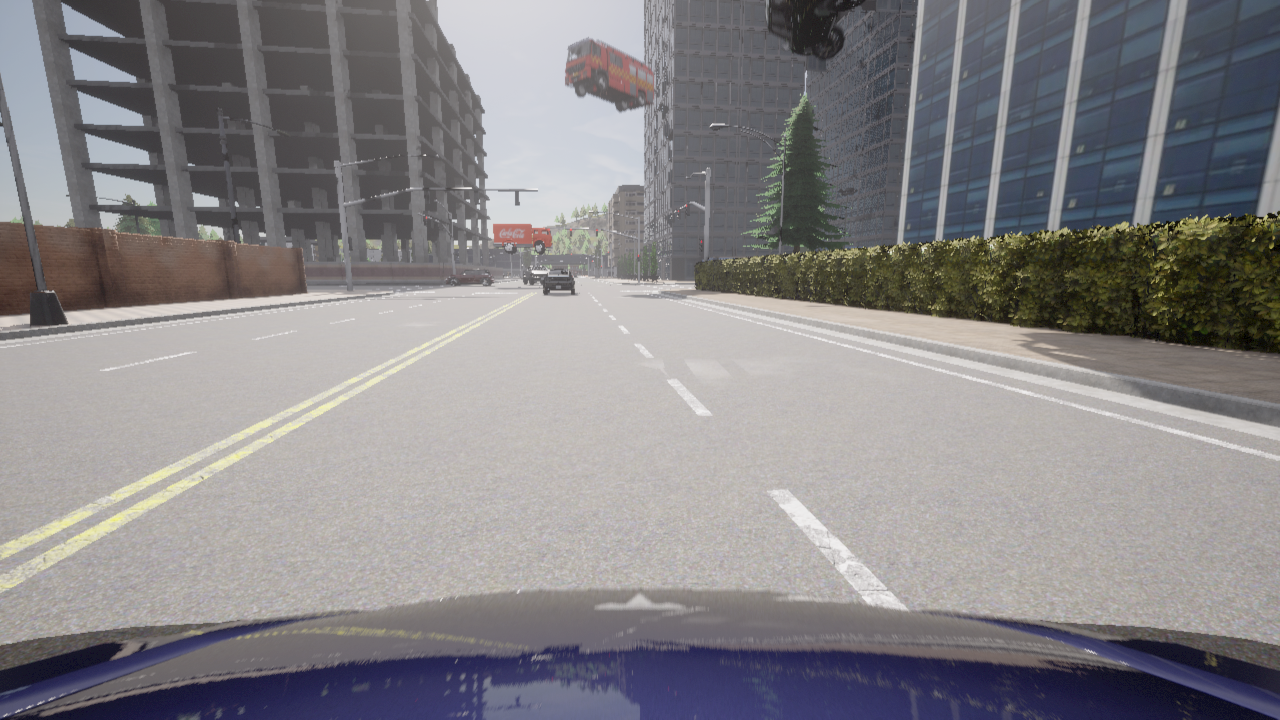cyclist: (0, 588, 1279, 719), (565, 37, 653, 112), (765, 0, 866, 60), (493, 223, 552, 253), (542, 269, 577, 294), (446, 269, 494, 285), (523, 266, 547, 284), (506, 272, 510, 276), (534, 280, 539, 282)
